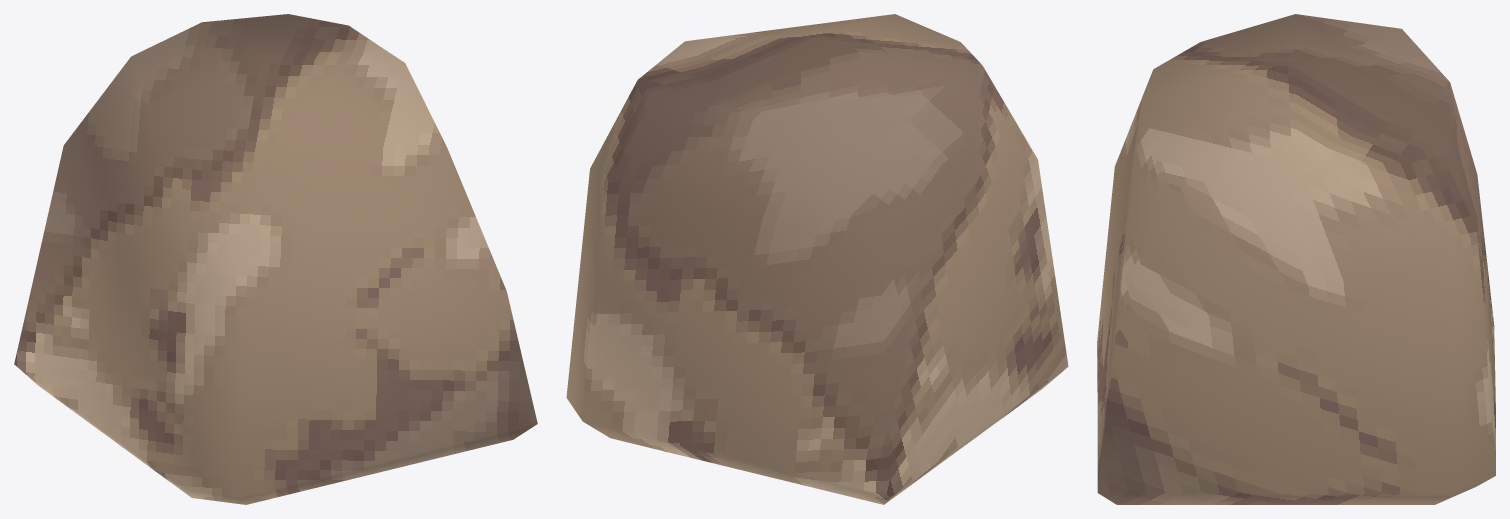
The model's file is rock2.glb.
3 renders of one model, left to right at view 1: azimuth 30°, elevation 25°; view 2: azimuth 150°, elevation 25°; view 3: azimuth 270°, elevation 25°, orthographic. The views are drawn at different scales.
Visible parts, largest first — view 1: Bombable Rock_Tiles2_0.001; view 2: Bombable Rock_Tiles2_0.001; view 3: Bombable Rock_Tiles2_0.001.
Part boxes in pixels (x1,y1,x2,y2): Bombable Rock_Tiles2_0.001: [14, 14, 537, 504]; Bombable Rock_Tiles2_0.001: [566, 14, 1068, 504]; Bombable Rock_Tiles2_0.001: [1097, 14, 1495, 504].
Size of the model in its own units: 0.0826 by 0.0833 by 0.0825.
Materials: 1 (1 with a texture image).
